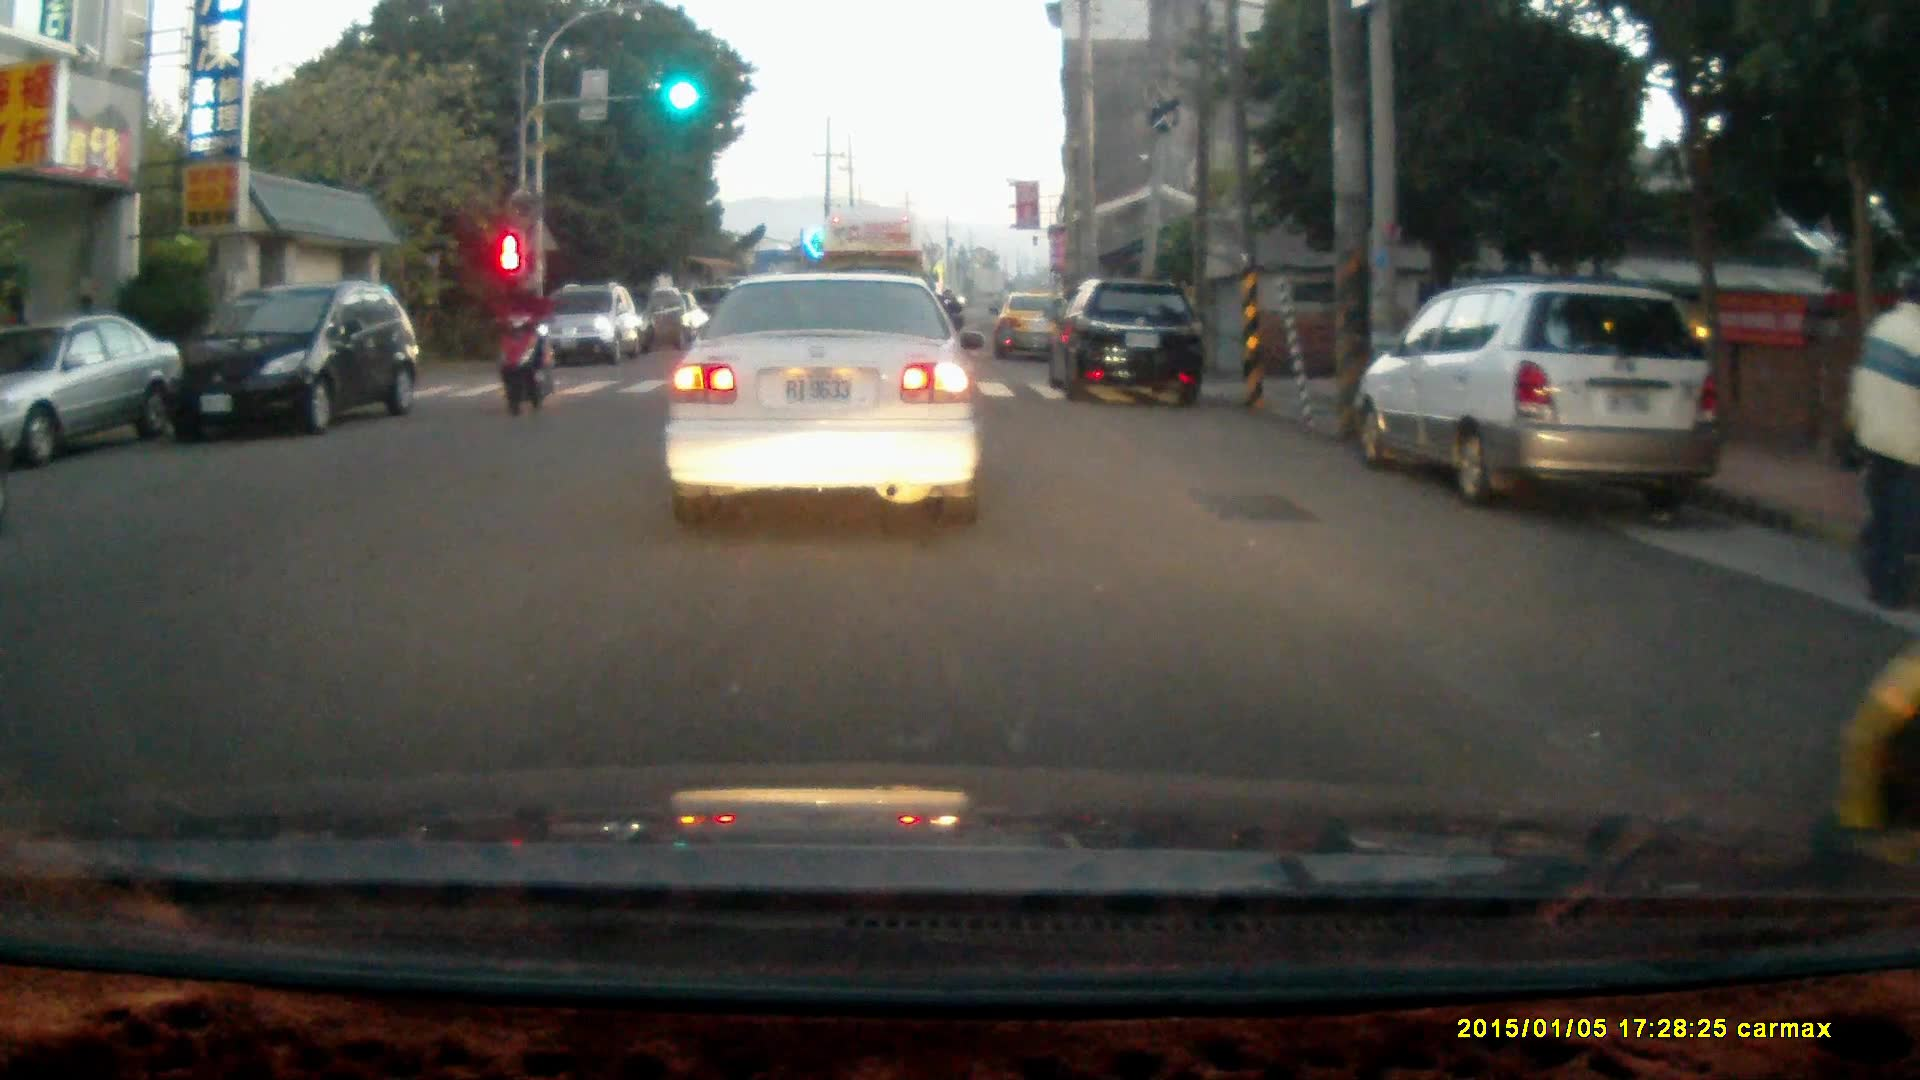pedestrian: (1843, 262, 1920, 611)
rider: (497, 267, 554, 419)
vehicle: (668, 270, 989, 524), (1359, 281, 1716, 506), (163, 284, 422, 445), (0, 314, 179, 459), (1046, 275, 1204, 403), (820, 205, 936, 365), (529, 285, 643, 367), (992, 292, 1081, 366)
